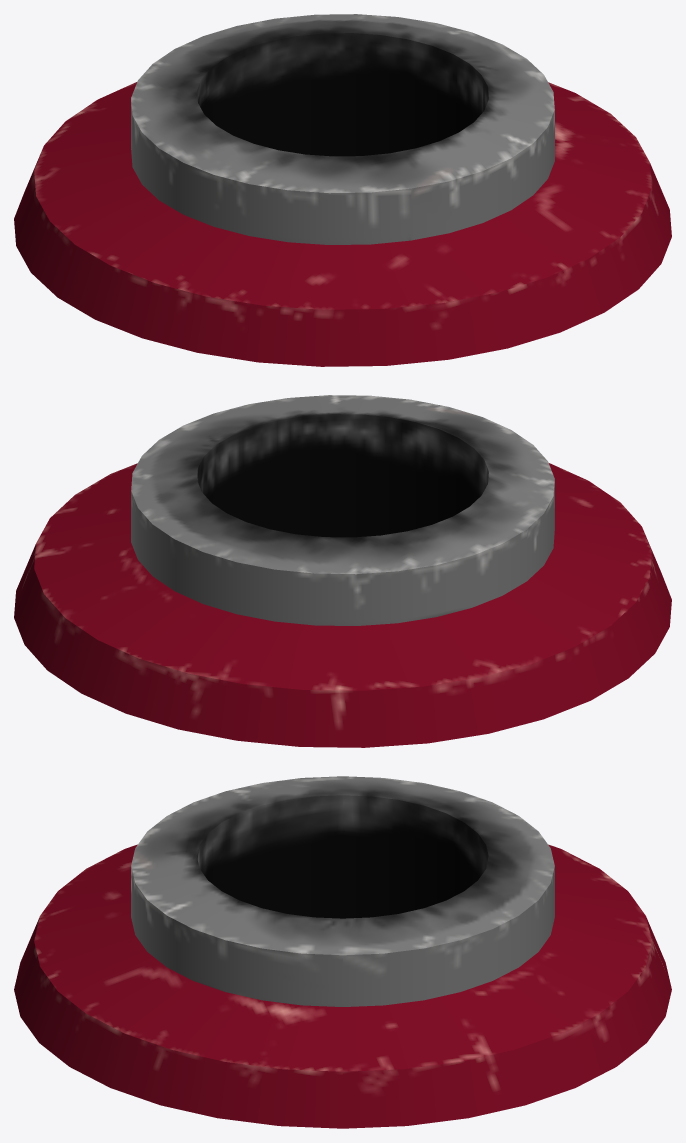
The model's file is BFG.fbx.
3 views of the same model, one above another, from view 1: azimuth 30°, elevation 25°; view 2: azimuth 150°, elevation 25°; view 3: azimuth 270°, elevation 25° (orthographic).
Visible parts, largest first — view 1: Cylinder; view 2: Cylinder; view 3: Cylinder.
Part boxes in pixels (<box>): Cylinder: <box>14,14,671,366</box>; Cylinder: <box>14,395,671,747</box>; Cylinder: <box>14,776,671,1128</box>.
Size of the model in its own units: 200 by 44.53 by 200.
